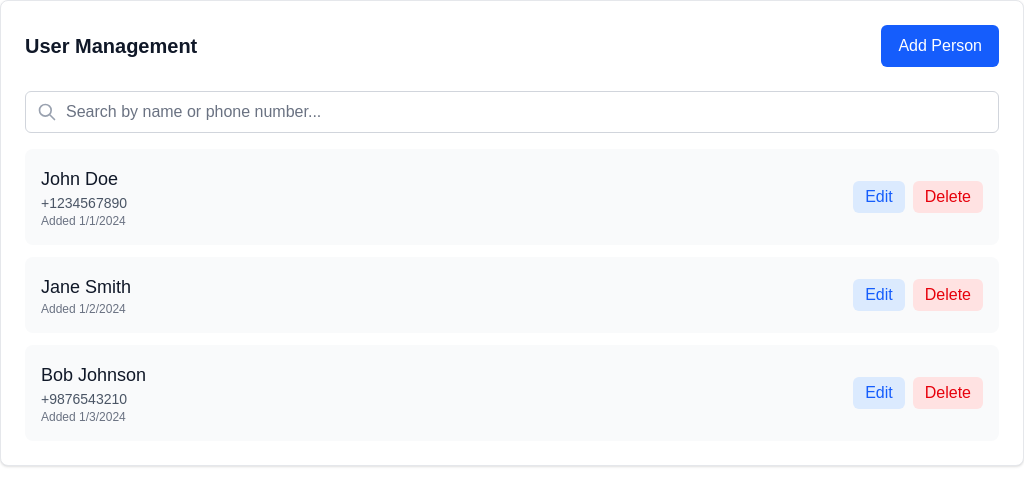
Test case: UserManagement › Search Functionality › filters persons by phone number
Type "1234567890" into the field with placeholder "Search by name or phone number...". click: (512, 112)
box: [25,91,999,133]
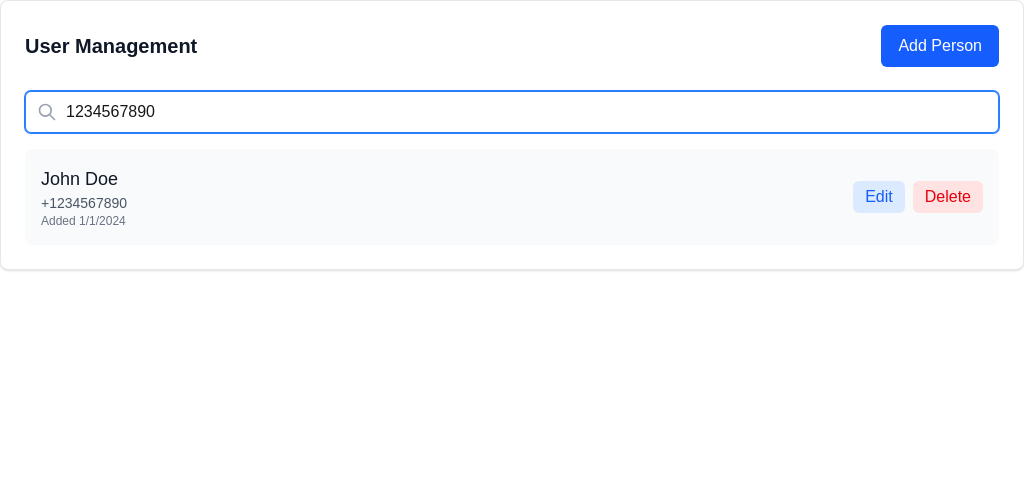
Expected: the heading "John Doe" is shown, [41,169,118,189]
Expected: the heading "Jane Smith" is gone
Expected: the heading "Bob Johnson" is gone
